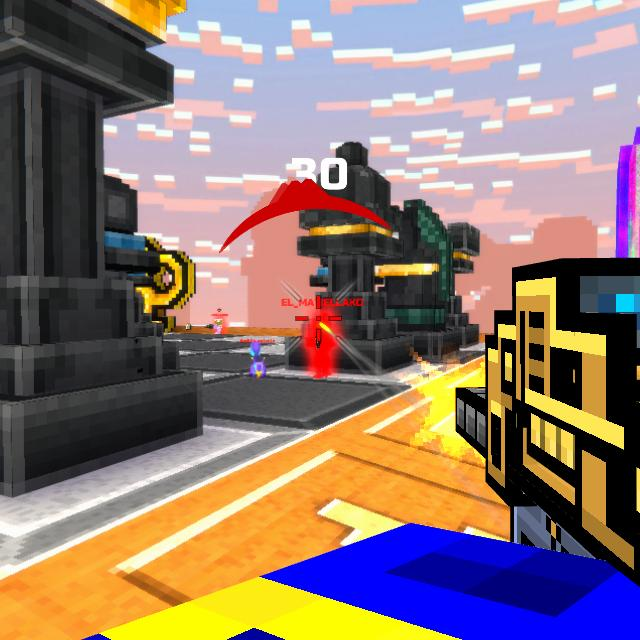Enemy: (309, 316, 337, 379), (215, 319, 225, 334)
